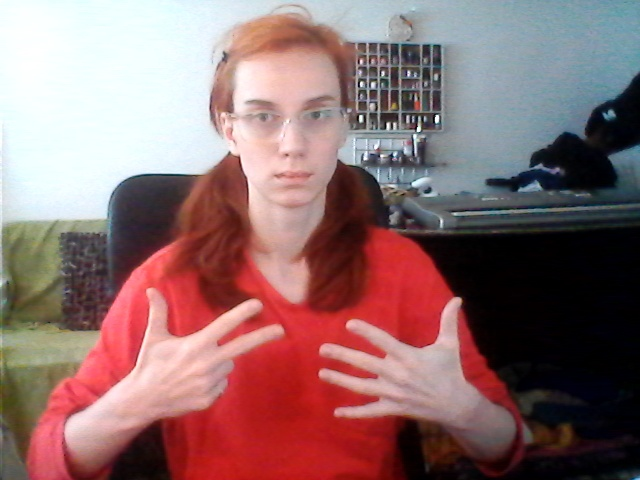osem: (138, 283, 472, 434)
